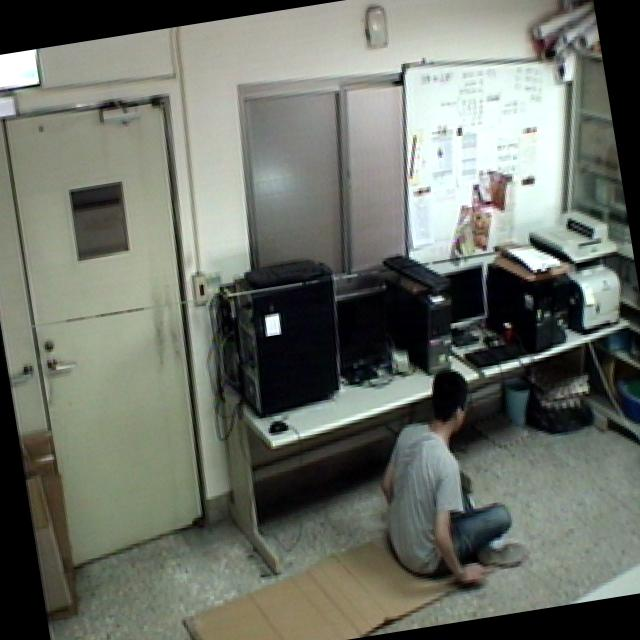sit: (349, 352, 538, 600)
